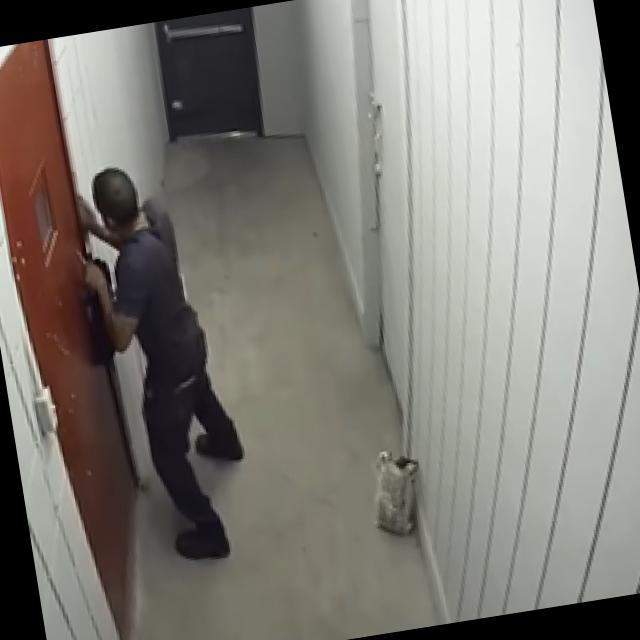person: (67, 153, 256, 573)
